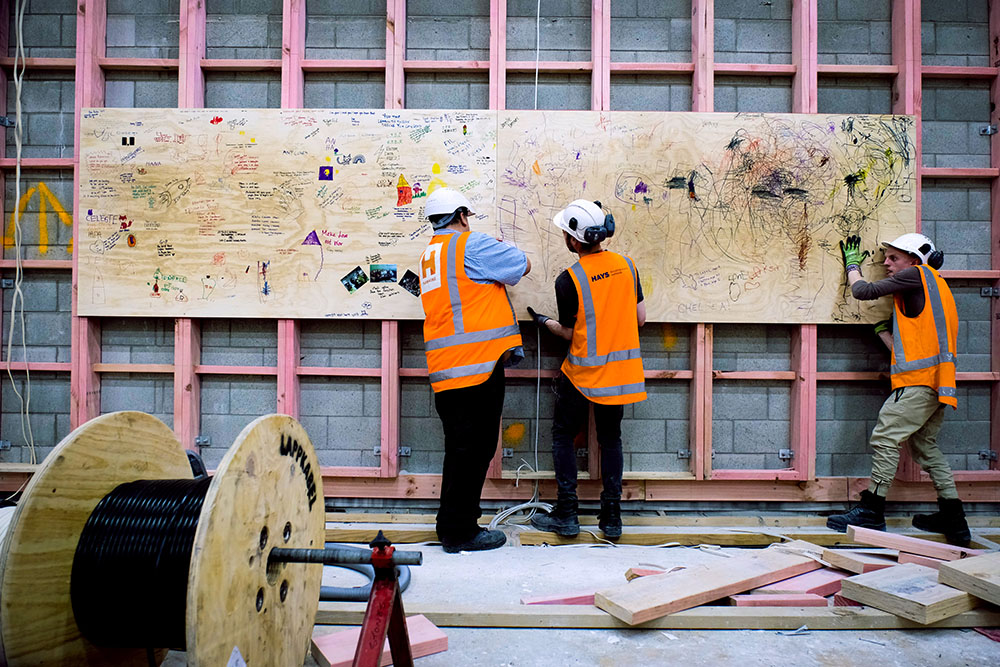hard hat: (554, 199, 611, 242), (421, 187, 476, 226), (884, 234, 941, 268)
high-vis: (421, 227, 524, 390), (563, 251, 649, 403), (887, 269, 962, 403)
